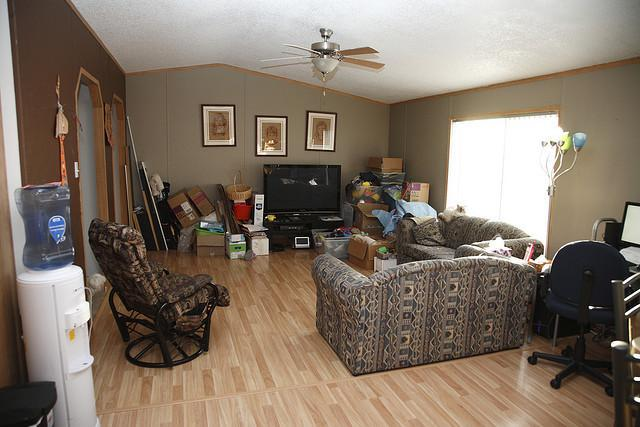tv: (264, 168, 341, 226), (616, 196, 639, 251)
